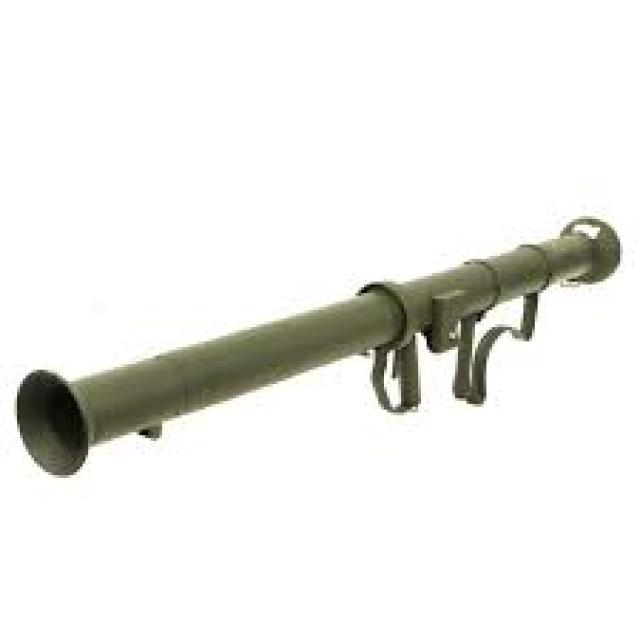bazooka: (21, 210, 625, 500)
